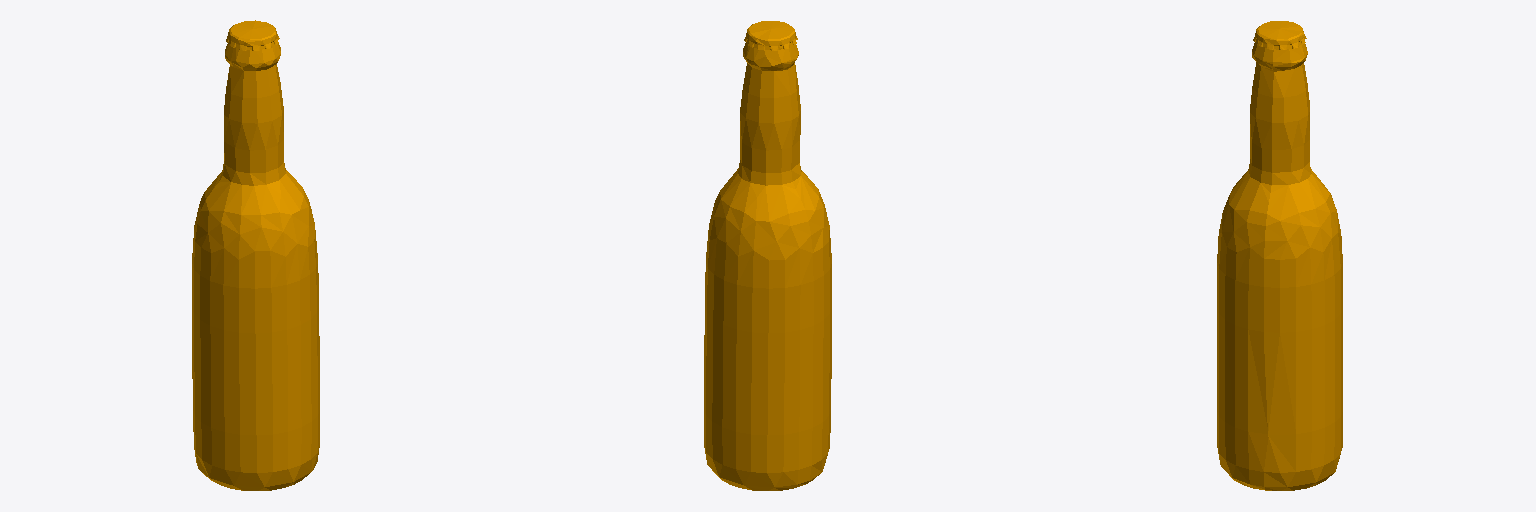
The robot description file, URDF, robot "beerBottle":
<?xml version="1.0"?>
<robot name="beerBottle">
  <link name="bottle">
    <inertial>
        <origin rpy="0 0 0" xyz="0 0 0"/>
        <mass value="0.001"/>
        <inertia ixx="2e-5" ixy="0" ixz="0" iyy="2e-5" iyz="0" izz="2e-5"/>
    </inertial>
    <visual>
      <geometry>
        <mesh filename="beerBottle.obj"/>
      </geometry>
    </visual>
    <collision>
      <geometry>
        <mesh filename="beerBottleCollider.obj"/>
      </geometry>
    </collision>
  </link>
</robot>

--- What the picture shows (computed from the rendered views, not written in the file) ---
3 views of the same robot in one strip: view 1: azimuth 30°, elevation 25°; view 2: azimuth 150°, elevation 25°; view 3: azimuth 270°, elevation 25° (orthographic).
Robot: beerBottle — 1 links, 0 joints (none); root link bottle; default pose: every joint at zero.
Visible links, largest first — view 1: bottle; view 2: bottle; view 3: bottle.
Link boxes in pixels (x1,y1,x2,y2): bottle: [192, 20, 319, 490]; bottle: [704, 21, 831, 490]; bottle: [1217, 21, 1342, 490].
Bounding box of the posed robot: 0.1065 × 0.1055 × 0.4057 m (x, y, z).
1 mesh visuals loaded from 1 distinct referenced files (1 OBJ).
